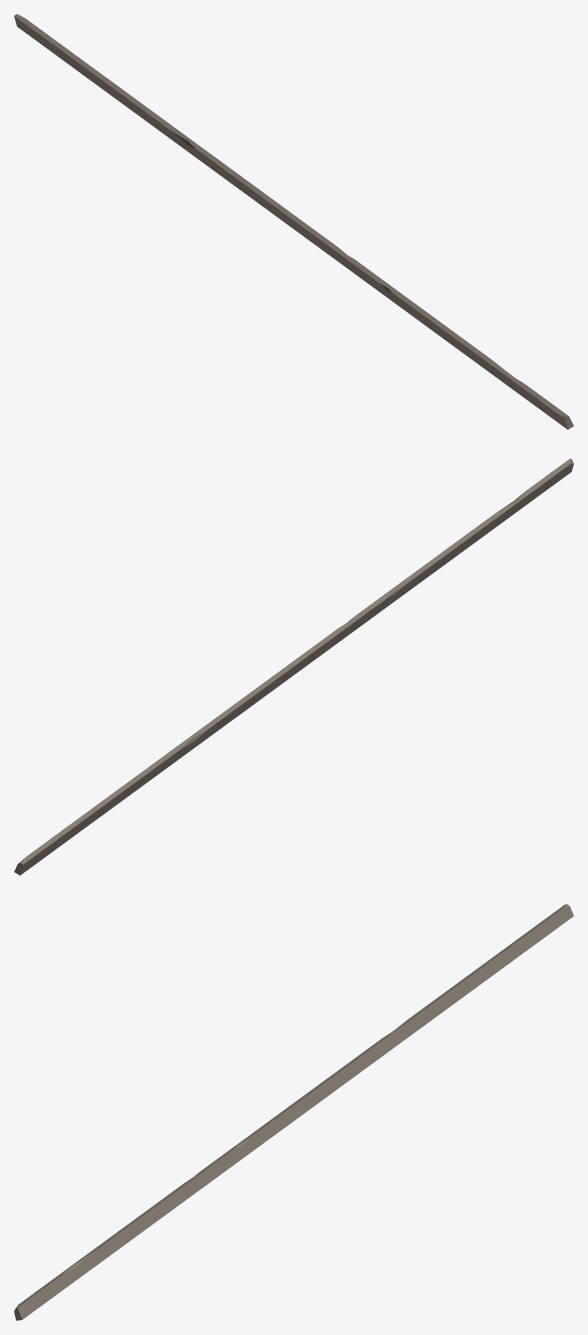
File: SM_Env_Road_Edge_01.glb
3 views of the same model, one above another, from view 1: azimuth 30°, elevation 25°; view 2: azimuth 150°, elevation 25°; view 3: azimuth 330°, elevation 25° (orthographic).
Parts seen in each view (by area): view 1: SM_Env_Road_Edge_01; view 2: SM_Env_Road_Edge_01; view 3: SM_Env_Road_Edge_01.
Part boxes in pixels (bbox=[...]): SM_Env_Road_Edge_01: bbox=[14, 14, 573, 429]; SM_Env_Road_Edge_01: bbox=[14, 458, 573, 875]; SM_Env_Road_Edge_01: bbox=[14, 904, 573, 1320].
Size of the model in its own units: 0.4781 by 0.6657 by 50.
1 material, 1 textured.
